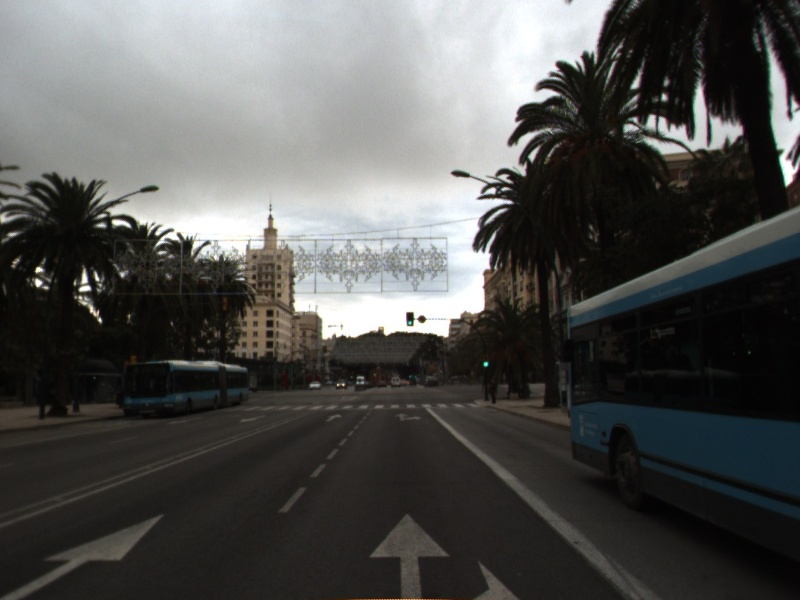STRAIGHT: (1, 511, 167, 600), (323, 412, 344, 423)
STRAIGHT_RIGHT: (367, 511, 524, 600), (392, 411, 425, 423)
